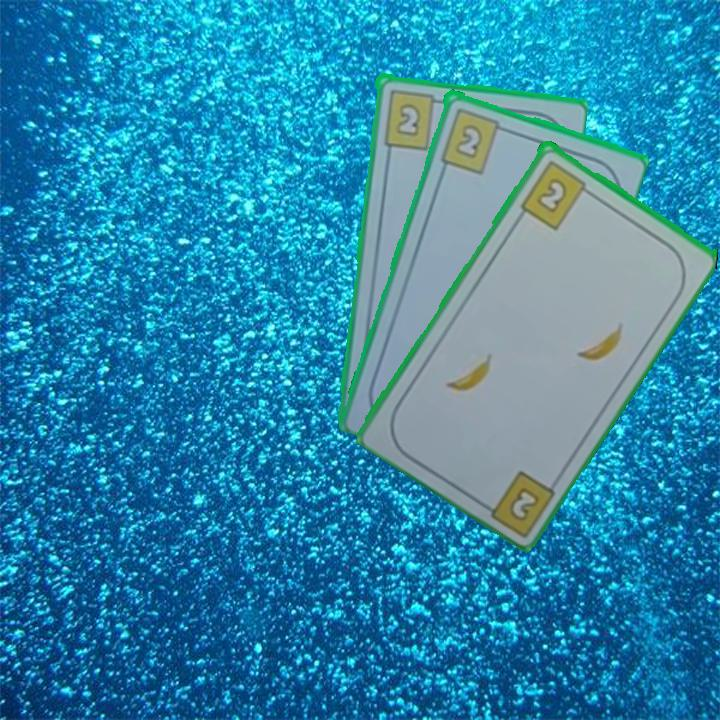2b: (516, 156, 596, 232), (436, 104, 511, 176), (379, 86, 446, 152), (505, 483, 542, 524)
